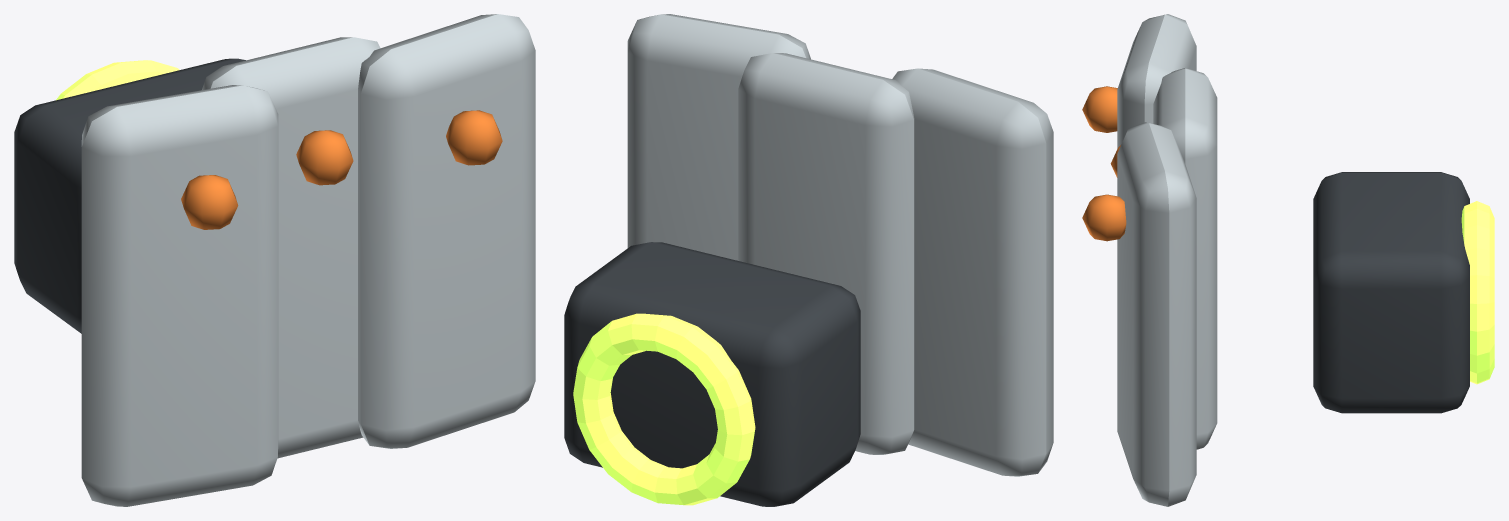
The model's file is module-armor.glb.
3 renders of one model, left to right at view 1: azimuth 30°, elevation 25°; view 2: azimuth 150°, elevation 25°; view 3: azimuth 270°, elevation 25°, orthographic. The views are drawn at different scales.
Visible parts, largest first — view 1: Overlapping armor plate, Overlapping armor plate.002, Overlapping armor plate.001, Universal connector.008, Armor rivet, Armor rivet.001, Armor rivet.002, Standard attachment ring.008; view 2: Overlapping armor plate, Universal connector.008, Overlapping armor plate.001, Overlapping armor plate.002, Standard attachment ring.008; view 3: Universal connector.008, Overlapping armor plate.002, Overlapping armor plate.001, Overlapping armor plate, Standard attachment ring.008, Armor rivet.002, Armor rivet.
Part boxes in pixels (<box>): Overlapping armor plate: <box>81,85,278,506</box>; Overlapping armor plate.002: <box>358,14,535,448</box>; Overlapping armor plate.001: <box>202,37,380,458</box>; Universal connector.008: <box>14,58,245,333</box>; Armor rivet: <box>181,175,238,229</box>; Armor rivet.001: <box>296,130,353,185</box>; Armor rivet.002: <box>446,110,502,165</box>; Standard attachment ring.008: <box>56,60,179,100</box>; Overlapping armor plate: <box>892,68,1053,476</box>; Universal connector.008: <box>564,242,860,506</box>; Overlapping armor plate.001: <box>738,53,914,454</box>; Overlapping armor plate.002: <box>627,14,810,260</box>; Standard attachment ring.008: <box>573,313,755,505</box>; Universal connector.008: <box>1313,172,1469,413</box>; Overlapping armor plate.002: <box>1117,122,1196,506</box>; Overlapping armor plate.001: <box>1153,68,1217,449</box>; Overlapping armor plate: <box>1117,14,1196,148</box>; Standard attachment ring.008: <box>1461,201,1494,384</box>; Armor rivet.002: <box>1082,194,1126,241</box>; Armor rivet: <box>1082,86,1117,132</box>.
Size of the model in its own units: 0.6076 by 0.52 by 0.58.
